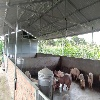heo: (57, 74, 72, 92), (70, 67, 80, 82), (77, 73, 86, 89), (87, 72, 95, 88)
